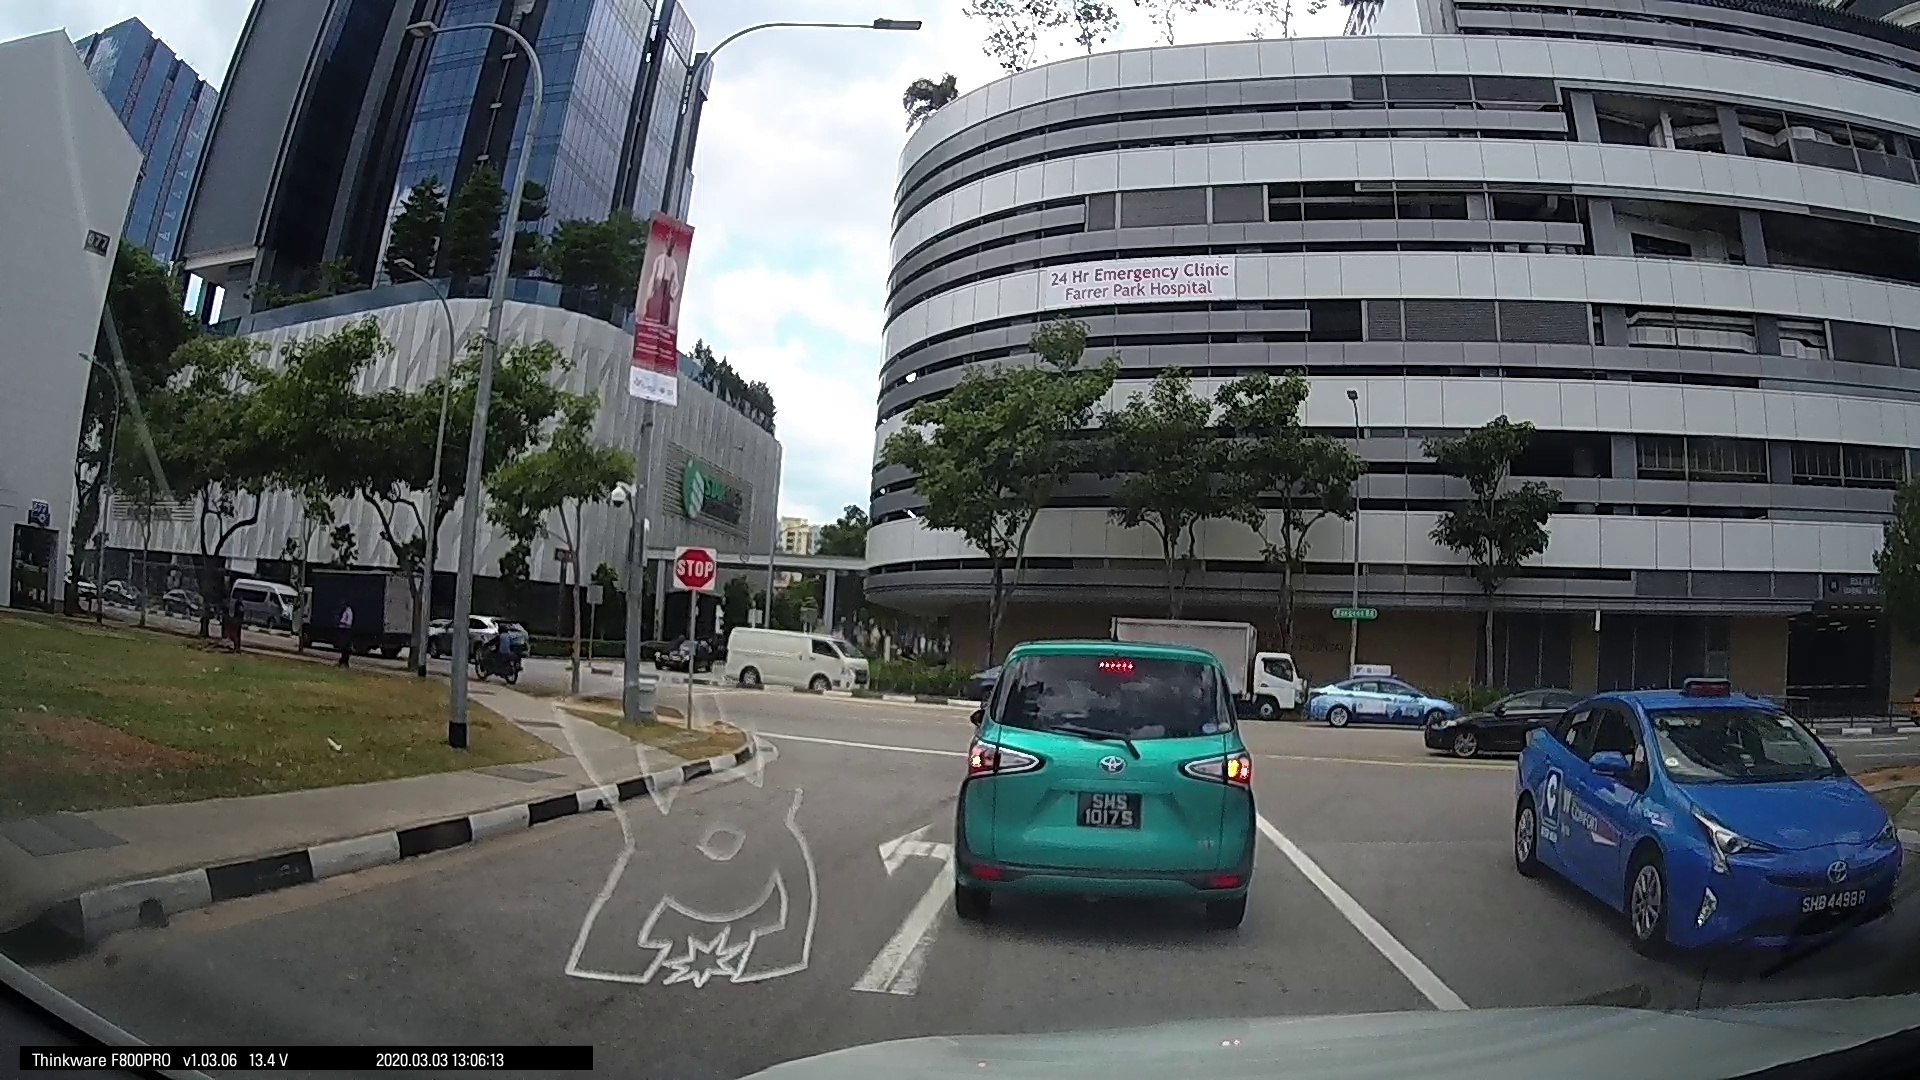Heavy Vehicle: (291, 559, 418, 654)
Light Vehicle: (1501, 682, 1895, 967), (945, 620, 1262, 932), (1428, 679, 1584, 760), (709, 621, 866, 694), (1305, 665, 1443, 727)
